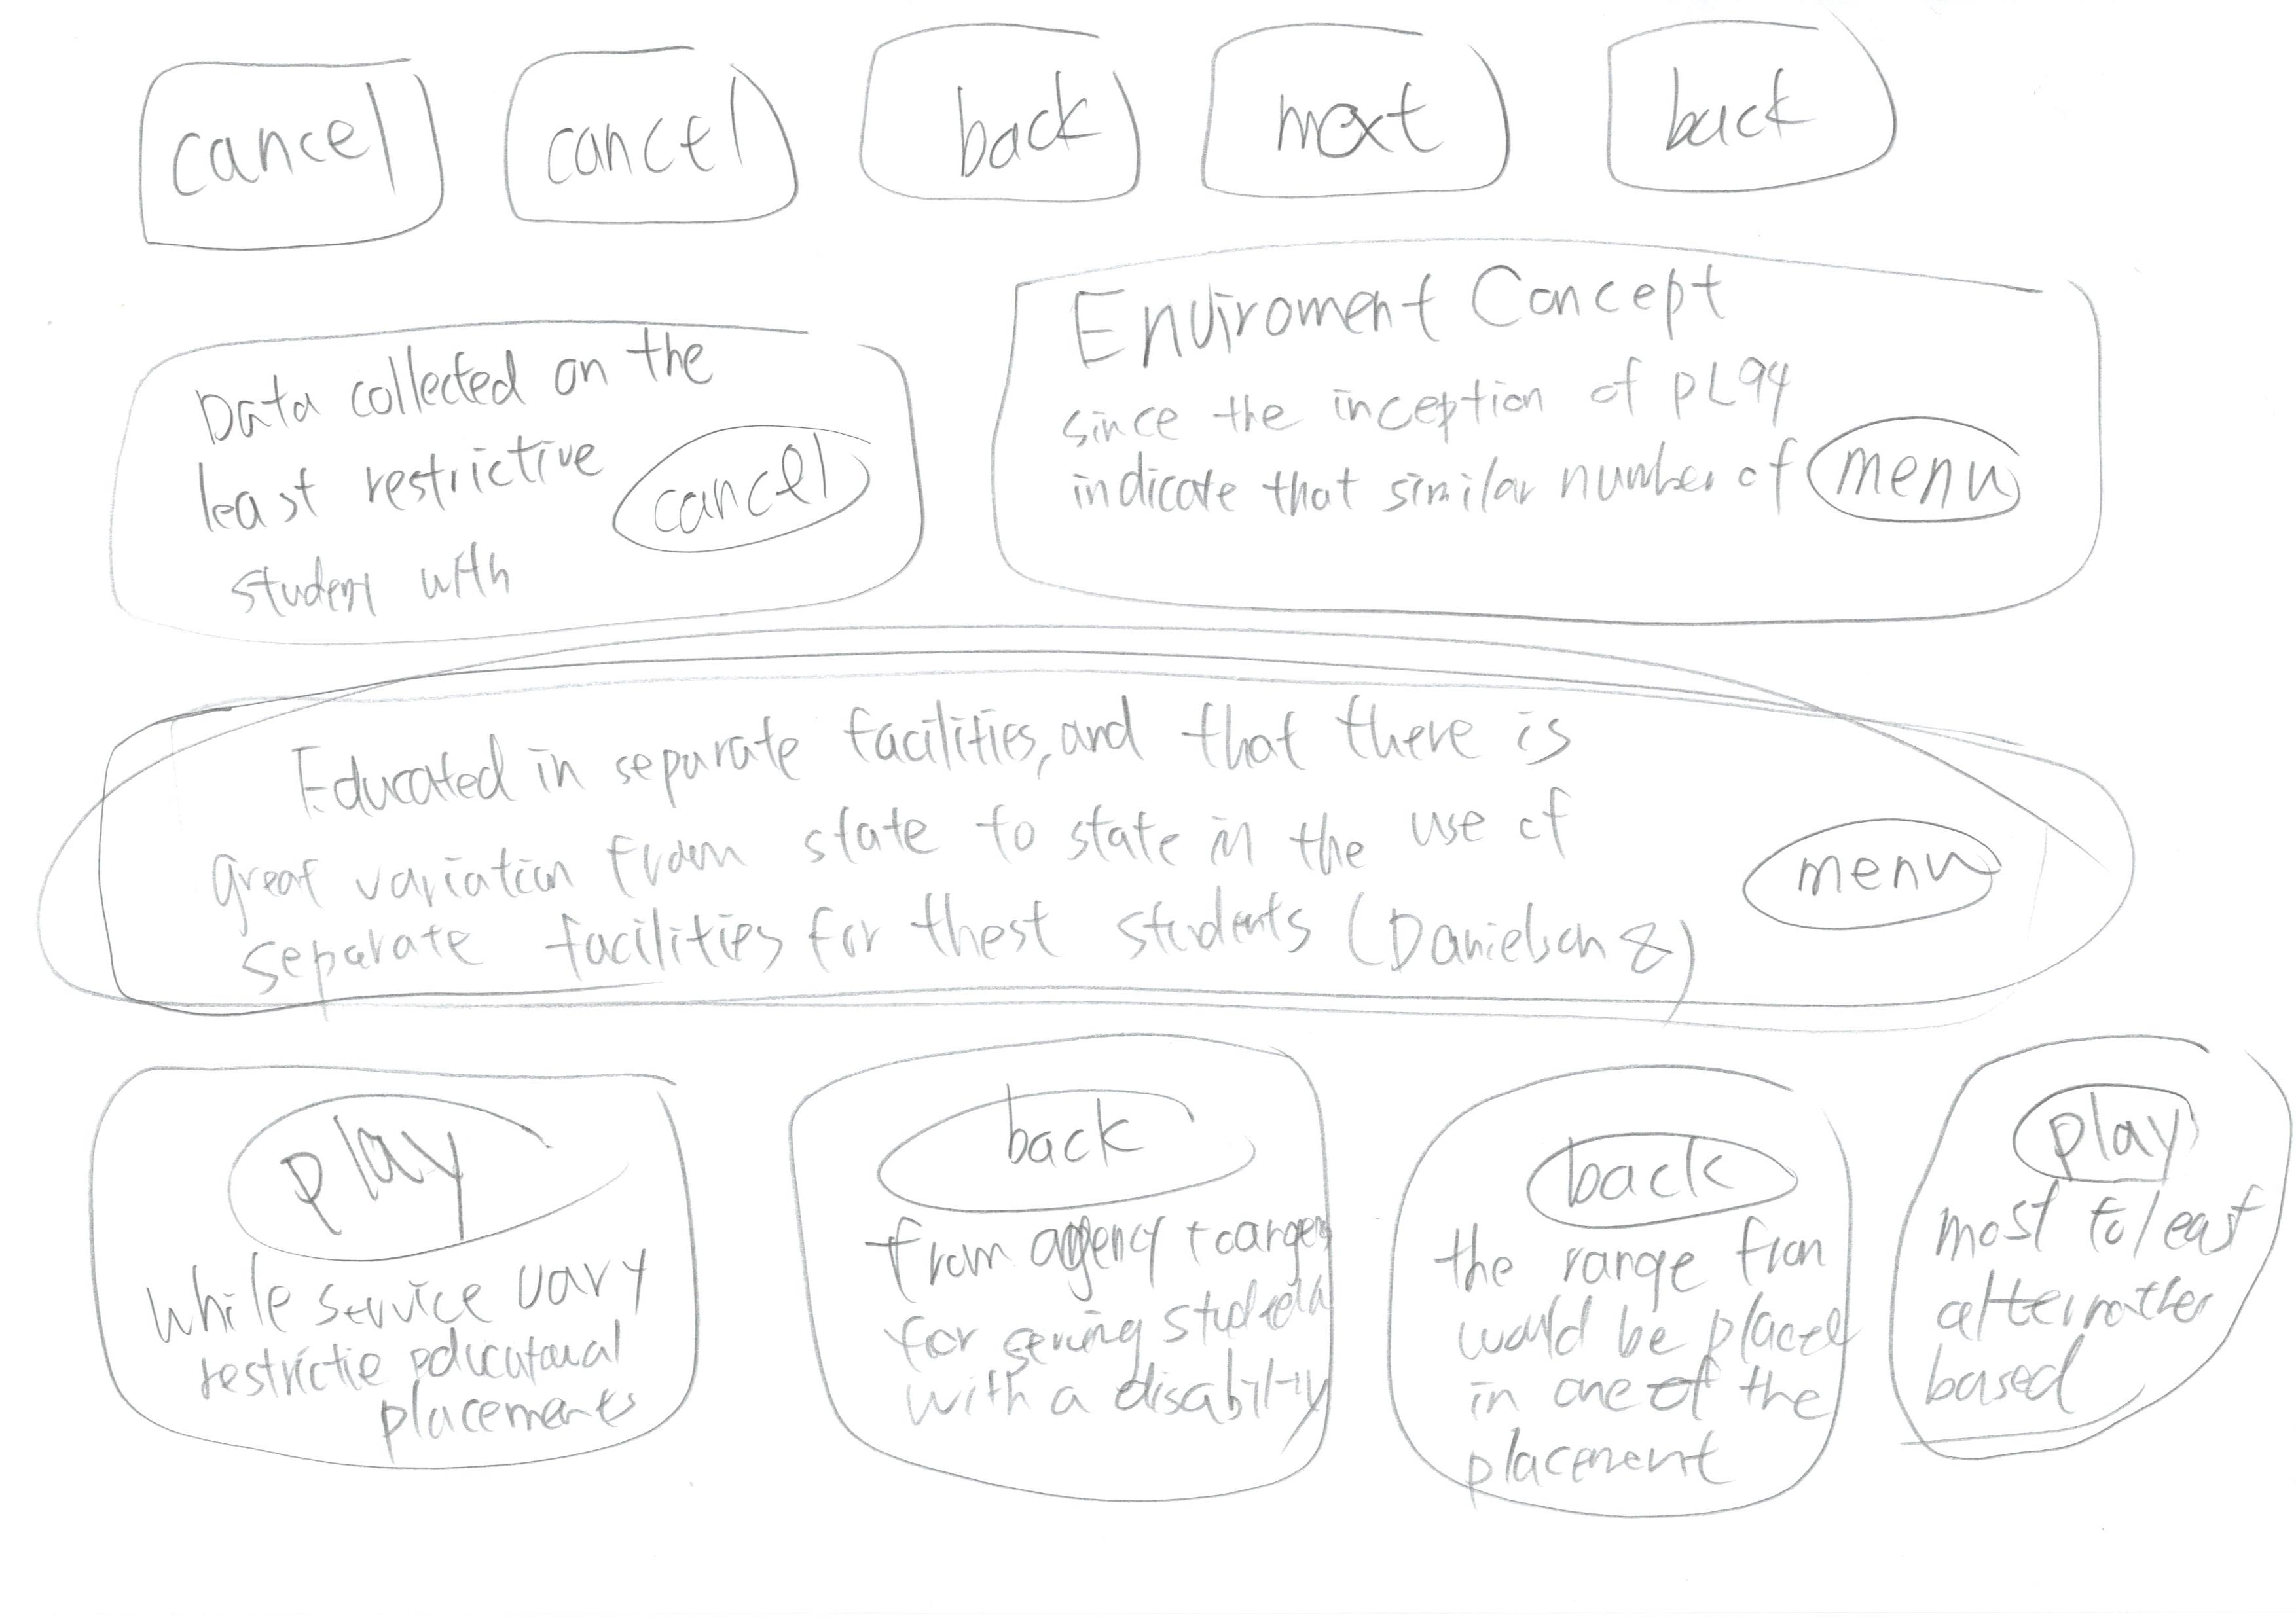back: (1575, 0, 1939, 220), (837, 7, 1162, 225), (870, 1062, 1287, 1222), (1507, 1098, 1809, 1232)
cancel: (468, 9, 826, 286), (105, 21, 469, 271), (598, 417, 900, 568)
double: (962, 220, 2182, 645), (67, 278, 967, 654)
menu: (1716, 784, 2032, 970), (1793, 392, 2039, 571)
next: (1197, 9, 1514, 221)
play: (200, 1077, 615, 1260), (1973, 1065, 2220, 1195)
quadruple: (65, 1025, 759, 1529), (763, 1011, 1371, 1541), (1375, 998, 1885, 1547), (1865, 1009, 2296, 1494)
row: (46, 1004, 2296, 1589), (46, 202, 2296, 684), (46, 634, 2296, 1069), (46, 0, 2296, 283)
single: (12, 613, 2256, 1039)
small-title: (285, 710, 1607, 793), (1044, 237, 1763, 360), (197, 330, 730, 422), (146, 1267, 633, 1325), (890, 1214, 1289, 1283), (1473, 1214, 1802, 1295), (1944, 1185, 2266, 1255)
text: (169, 805, 1711, 1000), (1051, 366, 1786, 529), (891, 1287, 1319, 1461), (183, 434, 605, 606), (1454, 1311, 1837, 1490), (193, 1327, 661, 1431), (1925, 1283, 2224, 1436)
